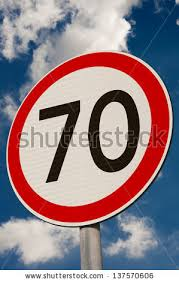Speed_limit_70km: (6, 53, 172, 226)
